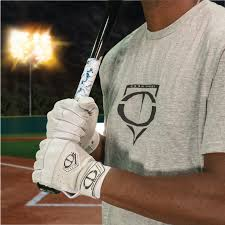baseball bat: (36, 1, 123, 193)
